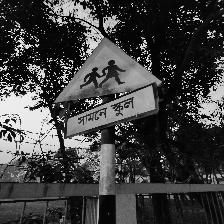School-in-front: (54, 37, 163, 139)
